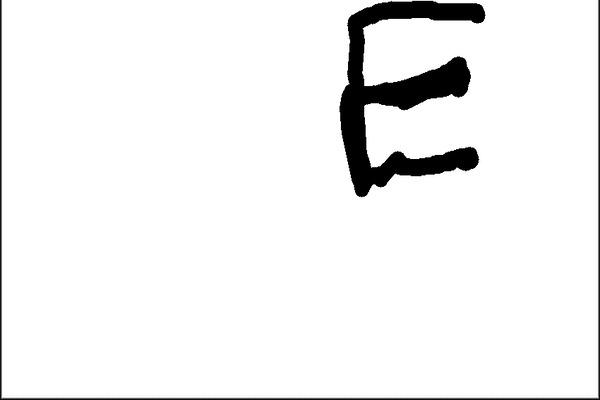E: (334, 0, 492, 195)
